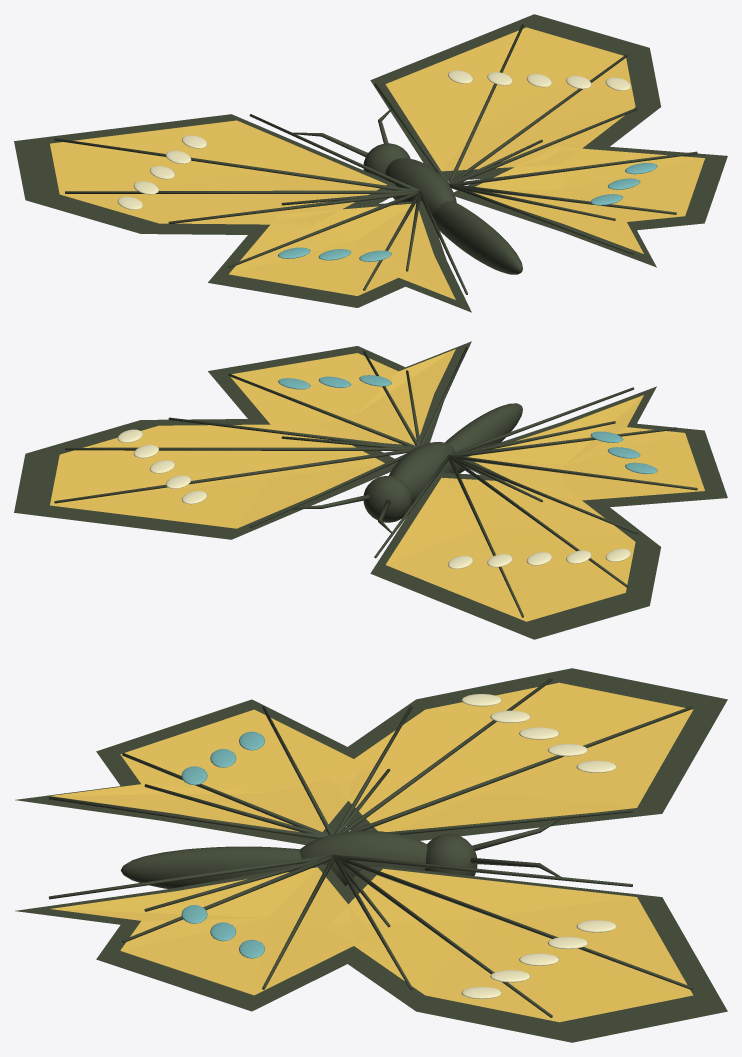
The model's file is butterfly.glb.
The picture shows the model from 3 angles, top to bottom: view 1: azimuth 30°, elevation 25°; view 2: azimuth 150°, elevation 25°; view 3: azimuth 270°, elevation 25°; orthographic projection. The views are drawn at different scales.
Parts seen in each view (by area): view 1: Golden wing panels.002, Golden wing panels, Golden wing panels.001, Golden wing panels.003, Wing dark border, Wing dark border.002, Wing dark border.001, Wing dark border.003, Butterfly abdomen, Butterfly thorax, Wing vein.001, Wing vein.002 (+11 smaller); view 2: Golden wing panels, Golden wing panels.002, Golden wing panels.003, Golden wing panels.001, Wing dark border, Wing dark border.002, Wing dark border.001, Wing dark border.003, Butterfly thorax, Butterfly abdomen, Butterfly head, Wing vein.010 (+11 smaller); view 3: Golden wing panels.002, Golden wing panels, Golden wing panels.003, Golden wing panels.001, Wing dark border.002, Wing dark border, Wing dark border.003, Wing dark border.001, Butterfly abdomen, Butterfly thorax, Butterfly head, Wing vein.010 (+15 smaller).
Boxes of the visible parts, <box> form: Golden wing panels.002: <box>385,27,635,171</box>; Golden wing panels: <box>50,120,386,224</box>; Golden wing panels.001: <box>229,203,455,299</box>; Golden wing panels.003: <box>473,146,704,253</box>; Wing dark border: <box>14,114,397,235</box>; Wing dark border.002: <box>370,14,660,180</box>; Wing dark border.001: <box>208,201,471,312</box>; Wing dark border.003: <box>453,145,727,267</box>; Butterfly abdomen: <box>433,201,522,274</box>; Butterfly thorax: <box>385,158,456,215</box>; Wing vein.001: <box>54,138,417,190</box>; Wing vein.002: <box>65,190,418,193</box>; Golden wing panels: <box>385,477,635,621</box>; Golden wing panels.002: <box>50,424,384,528</box>; Golden wing panels.003: <box>231,349,455,445</box>; Golden wing panels.001: <box>467,395,704,502</box>; Wing dark border: <box>370,472,660,639</box>; Wing dark border.002: <box>14,419,398,539</box>; Wing dark border.001: <box>464,386,727,508</box>; Wing dark border.003: <box>208,341,471,451</box>; Butterfly thorax: <box>389,442,456,504</box>; Butterfly abdomen: <box>444,403,522,473</box>; Butterfly head: <box>363,476,411,522</box>; Wing vein.010: <box>54,448,415,503</box>; Golden wing panels.002: <box>327,868,693,1022</box>; Golden wing panels: <box>327,682,693,832</box>; Golden wing panels.003: <box>51,867,373,995</box>; Golden wing panels.001: <box>50,709,372,831</box>; Wing dark border.002: <box>335,866,727,1042</box>; Wing dark border: <box>336,668,727,840</box>; Wing dark border.003: <box>15,864,365,1011</box>; Wing dark border.001: <box>15,699,355,844</box>; Butterfly abdomen: <box>120,846,301,888</box>; Butterfly thorax: <box>300,830,427,885</box>; Butterfly head: <box>425,834,477,875</box>; Wing vein.010: <box>334,855,692,989</box>.
Size of the model in its own units: 1.08 by 0.08 by 0.87.
